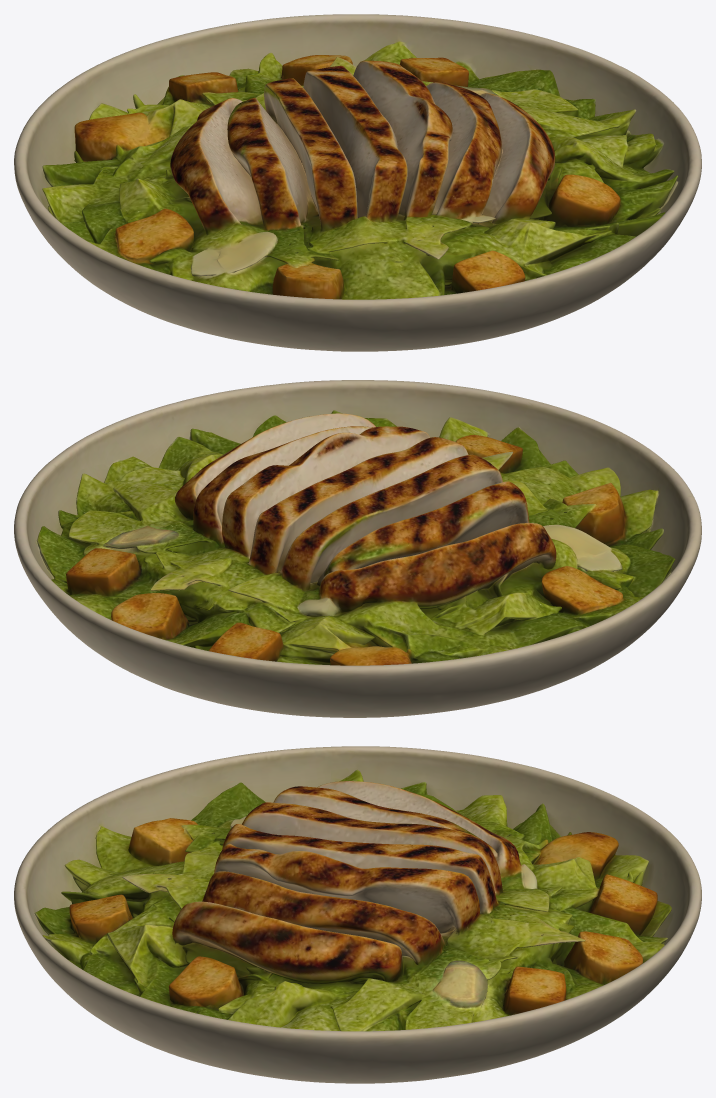
3 views of the same model, one above another, from view 1: azimuth 30°, elevation 25°; view 2: azimuth 150°, elevation 25°; view 3: azimuth 270°, elevation 25° (orthographic).
Parts seen in each view (by area): view 1: tripo_node_e54777f3-7fa2-43f1-9ac2-31c14350d48b; view 2: tripo_node_e54777f3-7fa2-43f1-9ac2-31c14350d48b; view 3: tripo_node_e54777f3-7fa2-43f1-9ac2-31c14350d48b.
Part boxes in pixels (x1=…): tripo_node_e54777f3-7fa2-43f1-9ac2-31c14350d48b: x1=14, y1=14, x2=701, y2=351; tripo_node_e54777f3-7fa2-43f1-9ac2-31c14350d48b: x1=14, y1=380, x2=701, y2=717; tripo_node_e54777f3-7fa2-43f1-9ac2-31c14350d48b: x1=14, y1=746, x2=701, y2=1083.
Size of the model in its own units: 0.9782 by 0.2223 by 0.9786.
1 material, 1 textured.
